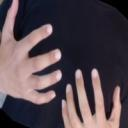hand: (0, 0, 63, 105), (60, 67, 122, 127)
